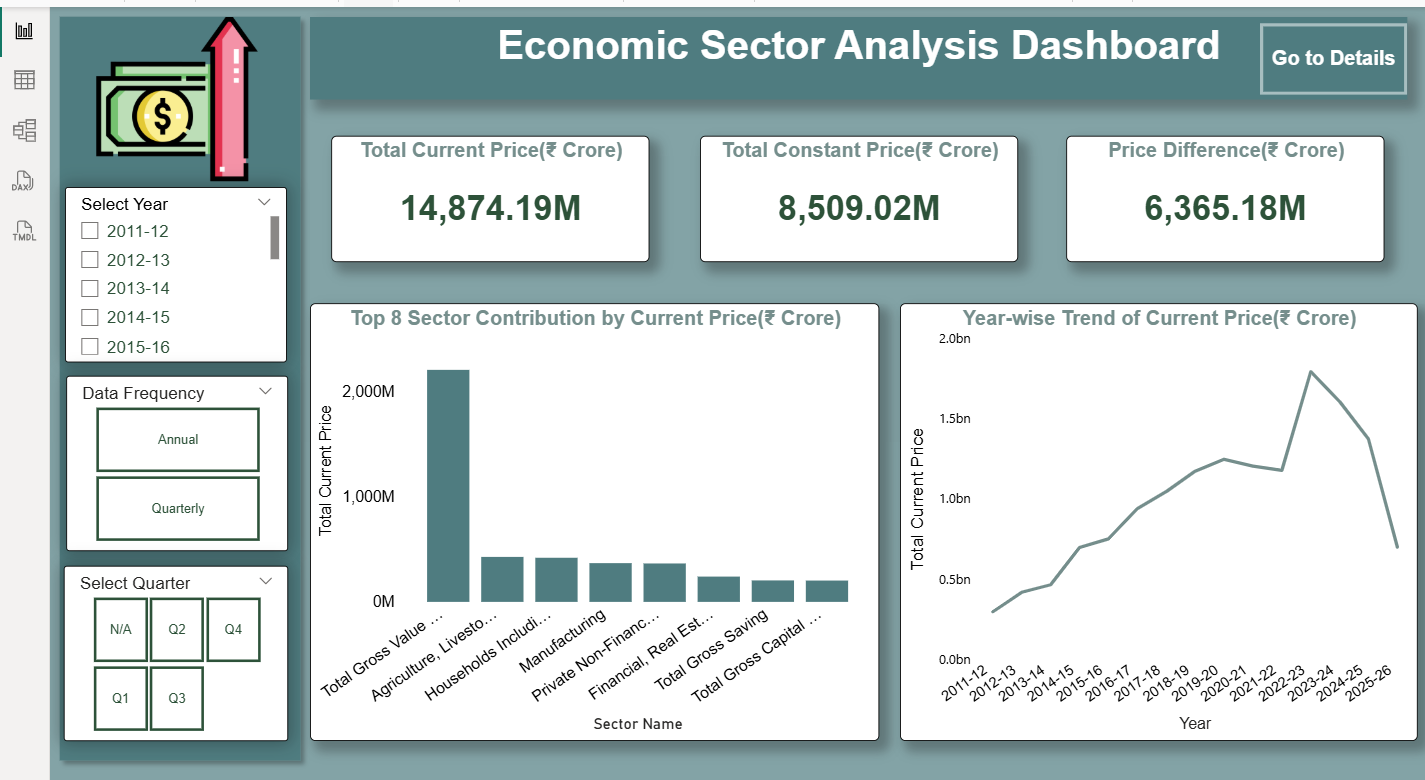

Layout of this report page (visuals, bound fields, positions):
{"tool":"powerbi","page":{"name":"Overview","canvas":[1280,720],"ordinal":0},"visuals":[{"type":"textbox","box":[242,9.9,1021,76.5],"z":0},{"type":"shape","box":[0,0,242,709.9],"z":1000},{"type":"image","box":[18.5,9.9,198.8,153.1],"z":2000},{"type":"card","title":"Total Current Price(₹ Crore)","fields":{"Values":["Annually_Quarterly_Data.Total Current Price"]},"box":[261.7,119.8,296.3,117.3],"z":3000},{"type":"card","title":"Total Constant Price(₹ Crore)","fields":{"Values":["Annually_Quarterly_Data.Total Constant Price"]},"box":[604.9,119.8,296.3,117.3],"z":4000},{"type":"card","title":"Price Difference(₹ Crore)","fields":{"Values":["Annually_Quarterly_Data.Price Diff"]},"box":[945.7,119.8,296.3,117.3],"z":5000},{"type":"clusteredColumnChart","title":"Top 8 Sector Contribution by Current Price(₹ Crore)","fields":{"Category":["Annually_Quarterly_Data.Sector Name"],"Y":["Annually_Quarterly_Data.Total Current Price"]},"box":[242,275.3,529.6,407.4],"z":6000},{"type":"slicer","fields":{"Values":["Annually_Quarterly_Data.Year"]},"box":[13.6,167.9,206.2,163],"z":7000},{"type":"slicer","fields":{"Values":["Annually_Quarterly_Data.Frequency"]},"box":[14.8,343.2,206.2,163],"z":8000},{"type":"slicer","fields":{"Values":["Annually_Quarterly_Data.Quarter"]},"box":[12.3,519.8,208.6,163],"z":9000},{"type":"lineChart","title":"Year-wise Trend of Current Price(₹ Crore)","fields":{"Category":["Annually_Quarterly_Data.Year"],"Y":["Annually_Quarterly_Data.Total Current Price"]},"box":[790.1,275.3,481.5,407.4],"z":10000},{"type":"actionButton","box":[1125.9,14.8,137,66.7],"z":11000}]}

Visuals, with their boxes in screenshot pixels (x1, y1, x2, y2):
textbox: region(307, 18, 1396, 100)
shape: region(48, 7, 307, 765)
image: region(68, 18, 280, 181)
"Total Current Price(₹ Crore)" card: region(328, 135, 644, 260)
"Total Constant Price(₹ Crore)" card: region(694, 135, 1010, 260)
"Price Difference(₹ Crore)" card: region(1058, 135, 1374, 260)
"Top 8 Sector Contribution by Current Price(₹ Crore)" clusteredColumnChart: region(307, 301, 872, 736)
slicer - Annually_Quarterly_Data.Year: region(63, 187, 283, 361)
slicer - Annually_Quarterly_Data.Frequency: region(64, 374, 284, 548)
slicer - Annually_Quarterly_Data.Quarter: region(61, 562, 284, 736)
"Year-wise Trend of Current Price(₹ Crore)" lineChart: region(892, 301, 1406, 736)
actionButton: region(1250, 23, 1396, 94)
